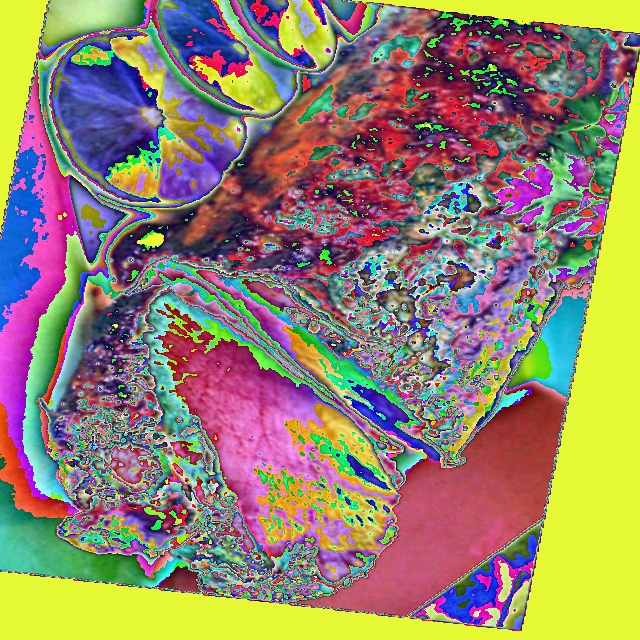background: (39, 0, 638, 603)
